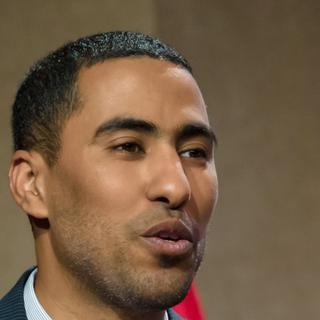eye: (99, 133, 149, 160), (174, 142, 213, 164)
